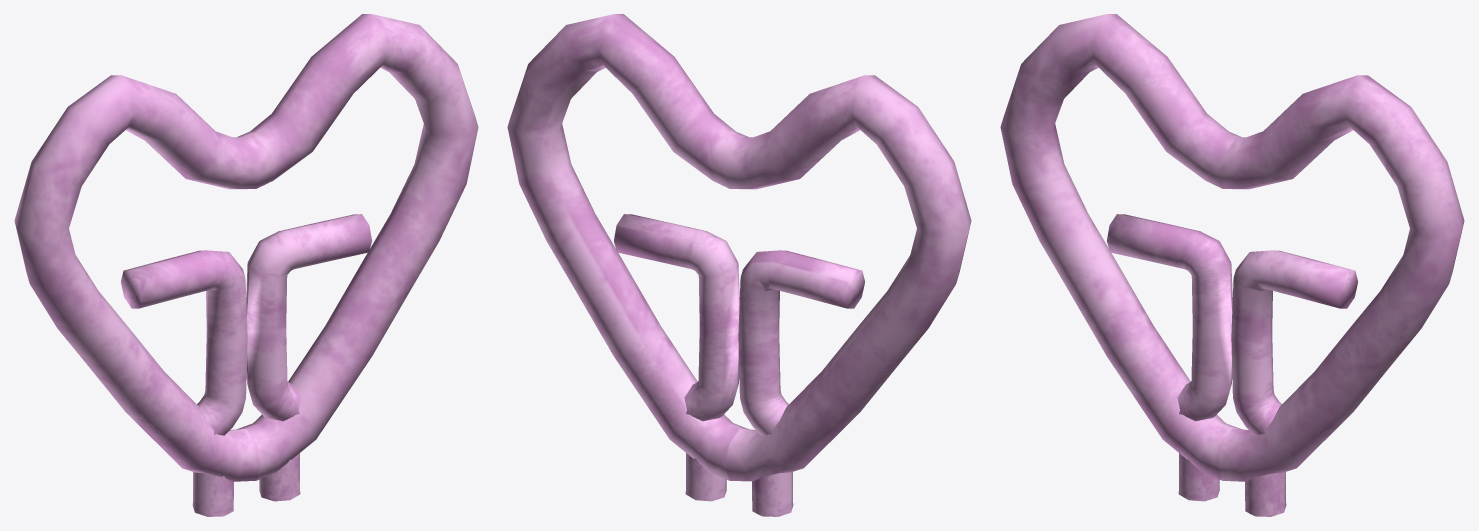
Rendered from GIRLSGENERATION_03.glb.
The picture shows the model from 3 angles, left to right: view 1: azimuth 30°, elevation 25°; view 2: azimuth 150°, elevation 25°; view 3: azimuth 330°, elevation 25°; orthographic projection.
Bounding box in the file's own units: 0.15 × 0.1428 × 0.0161.
Materials: 1 (1 with a texture image).
